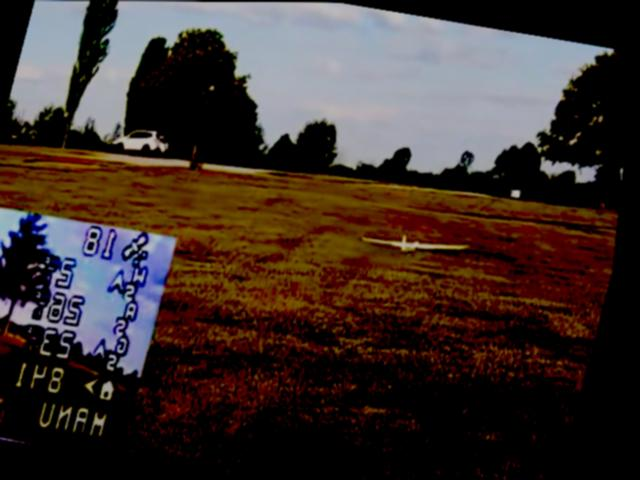iha: (362, 224, 472, 261)
